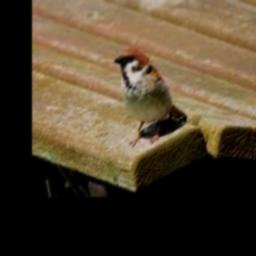Sparrow: (114, 50, 187, 146)
